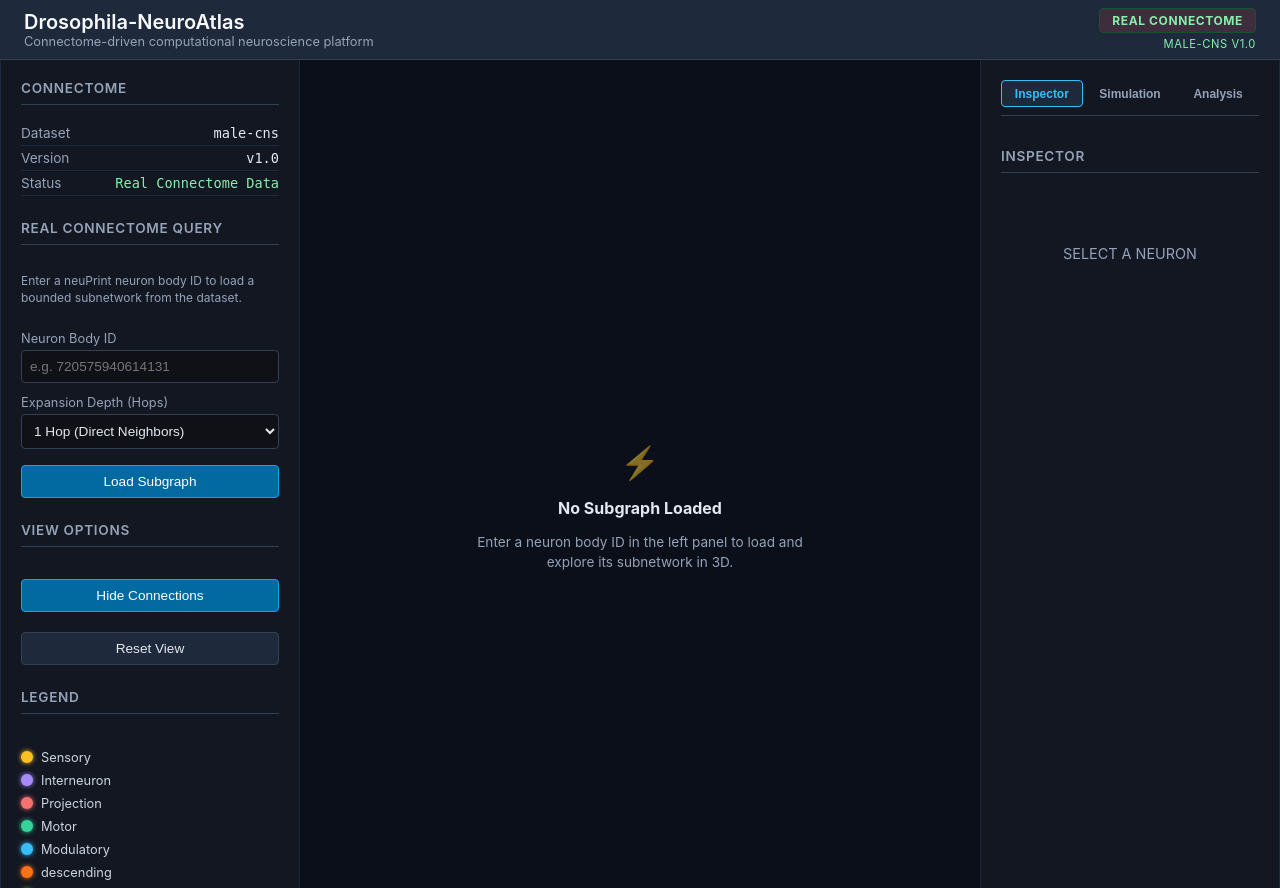
it: ConnectomeViewer › 7. 404 shows "Neuron not found"
The image size is (1280, 888).
Type "999999" into the field labelled "Neuron Body ID".
click(150, 366); type("999999")  # box [21,350,279,383]
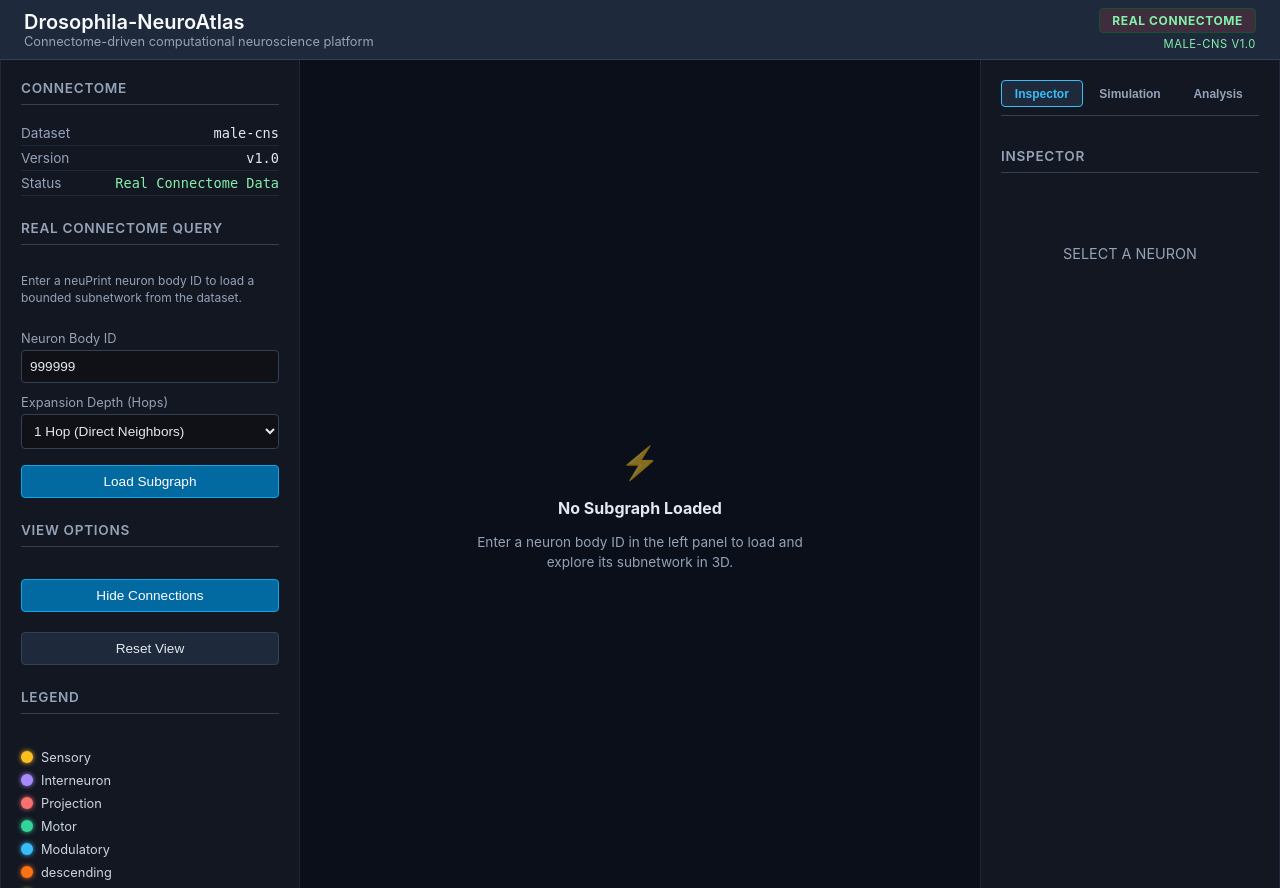
Click the button "Load Subgraph".
click(150, 481)  # box [21,465,279,498]
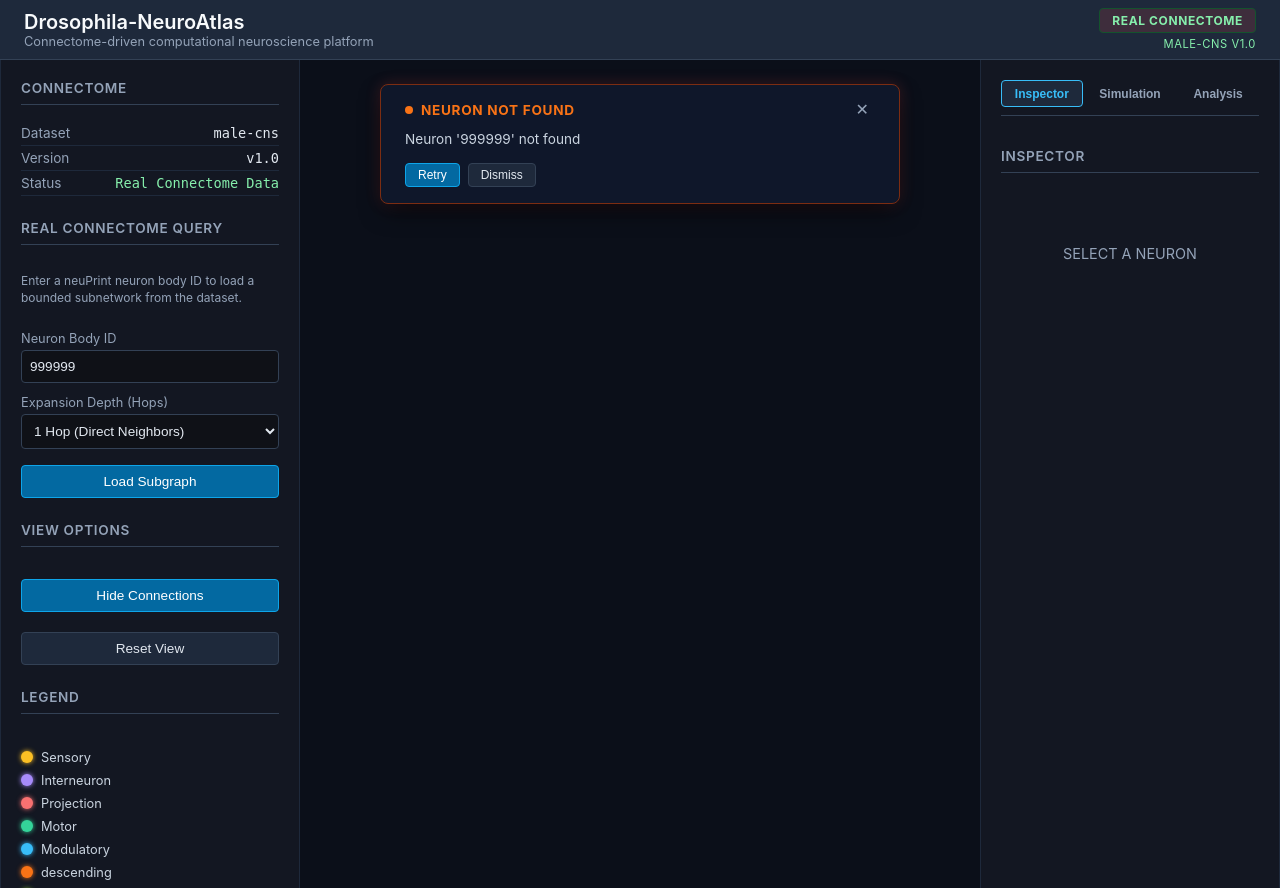
Check: the message "NEURON NOT FOUND ✕ Neuron '999999' not found Retry Dismiss" is shown, box [380,84,900,204]
Check: the text "NEURON NOT FOUND" is shown, box [421,102,575,118]
